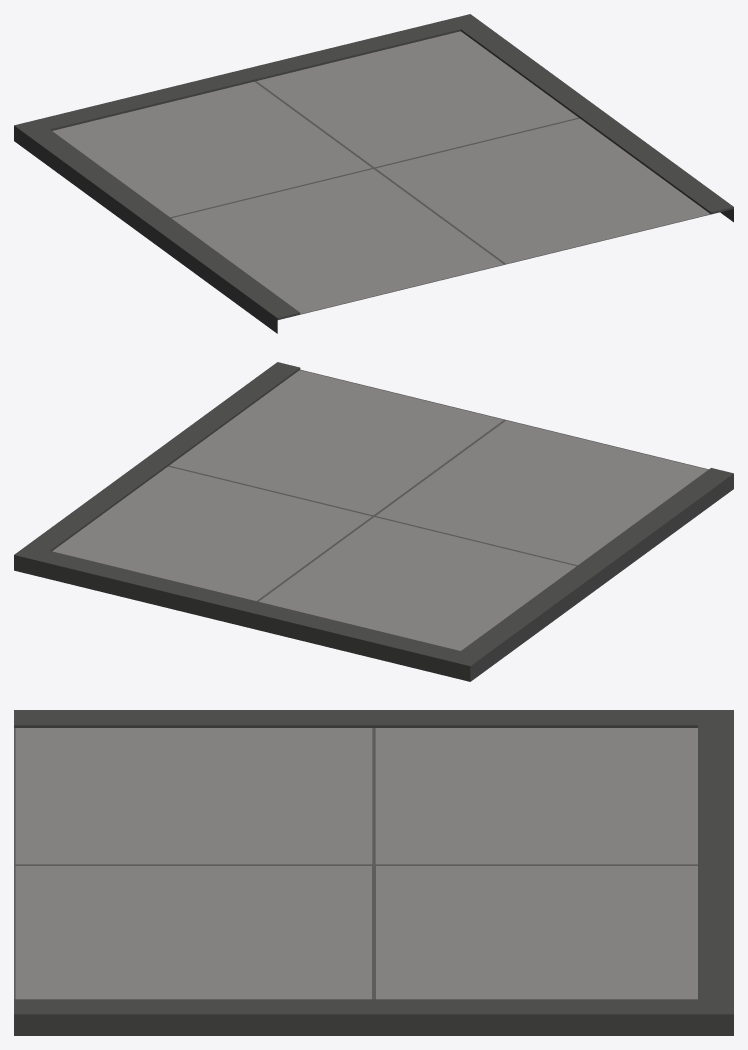
File: M_SideWalk350x350_05.fbx
The picture shows the model from 3 angles, top to bottom: view 1: azimuth 30°, elevation 25°; view 2: azimuth 150°, elevation 25°; view 3: azimuth 270°, elevation 25°; orthographic projection. The views are drawn at different scales.
Parts seen in each view (by area): view 1: M_SideWalk350x350_05; view 2: M_SideWalk350x350_05; view 3: M_SideWalk350x350_05.
Part boxes in pixels (x1,y1,x2,y2): M_SideWalk350x350_05: (14,14,733,333); M_SideWalk350x350_05: (14,362,733,681); M_SideWalk350x350_05: (14,710,733,1035).
Bounding box in the file's own units: 350 × 350 × 11.5.
